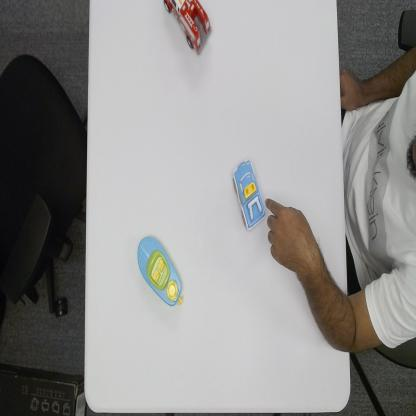Arm: (310, 264, 349, 351)
Boat: (136, 233, 185, 310)
Car: (230, 158, 266, 232)
Firetruck: (161, 0, 213, 55)
Hand: (265, 197, 316, 276)
